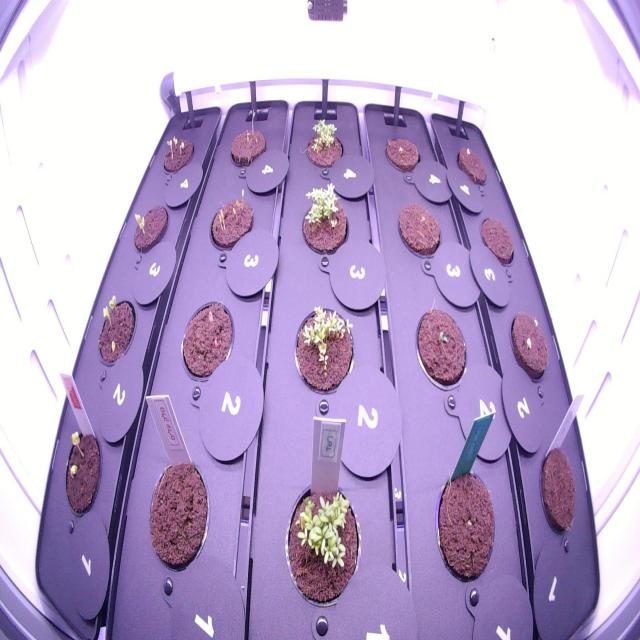germination: (282, 466, 364, 620), (288, 297, 361, 403), (56, 415, 107, 531), (412, 299, 472, 397), (288, 176, 352, 266), (206, 177, 259, 265), (91, 279, 140, 373), (506, 302, 555, 392), (296, 109, 351, 175), (223, 103, 270, 175), (125, 196, 173, 260), (157, 122, 197, 179)
pod: (429, 454, 501, 590), (138, 449, 213, 579), (173, 290, 239, 391), (533, 436, 582, 546), (391, 194, 446, 271), (473, 206, 518, 276), (379, 128, 424, 178), (450, 136, 490, 192)
